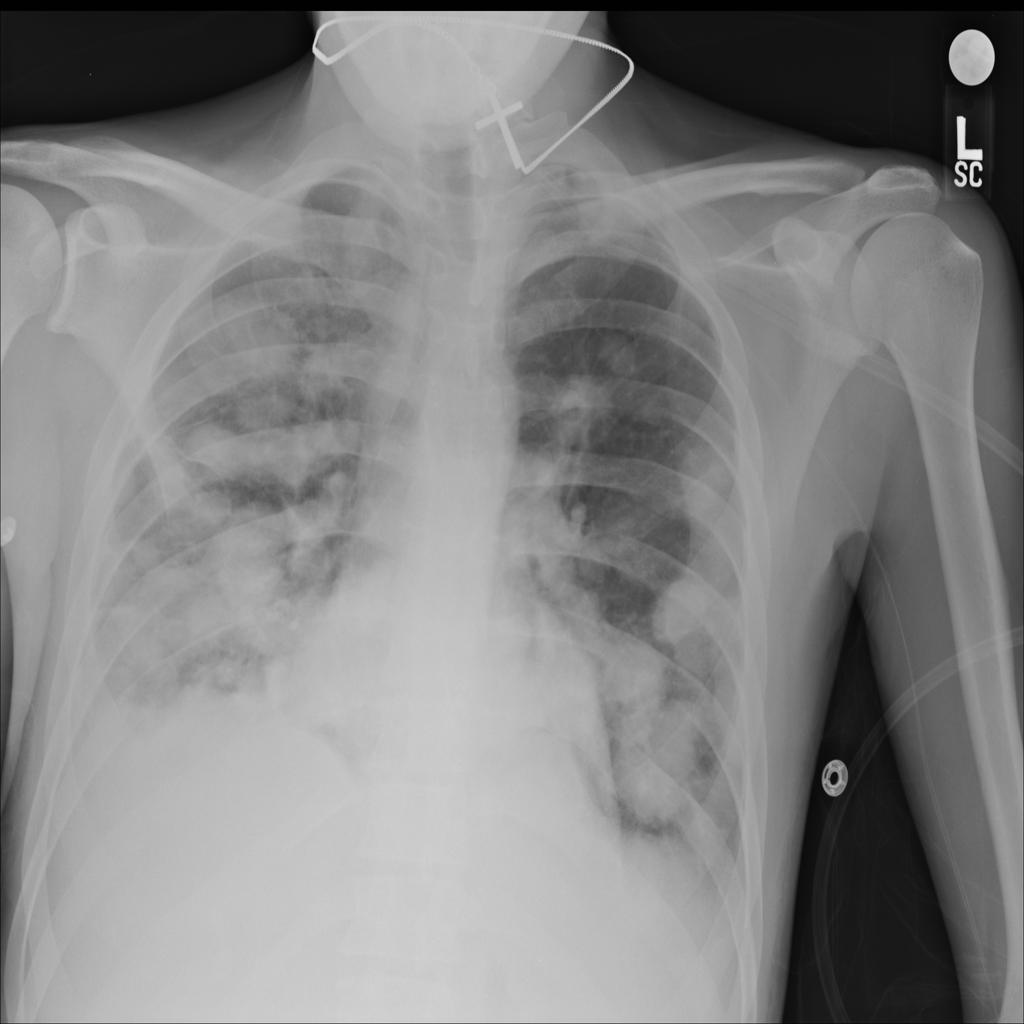nodule: (605, 674, 720, 831), (174, 283, 307, 400), (660, 423, 751, 535), (646, 568, 718, 655), (595, 631, 673, 711), (292, 336, 375, 411), (544, 374, 620, 453), (181, 412, 264, 474), (584, 315, 652, 390), (226, 384, 301, 448), (184, 480, 241, 528), (122, 531, 173, 580)
